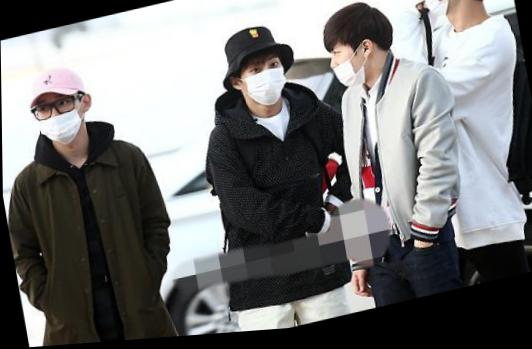OK: (240, 54, 289, 116), (420, 1, 459, 28)
WRONG: (34, 88, 87, 148), (325, 34, 367, 94)
